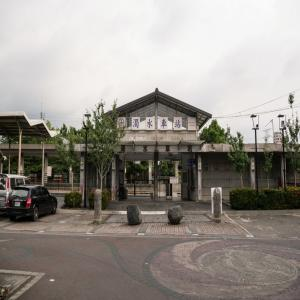Vehicle-registration-plate: (15, 203, 21, 206), (1, 198, 6, 201)
